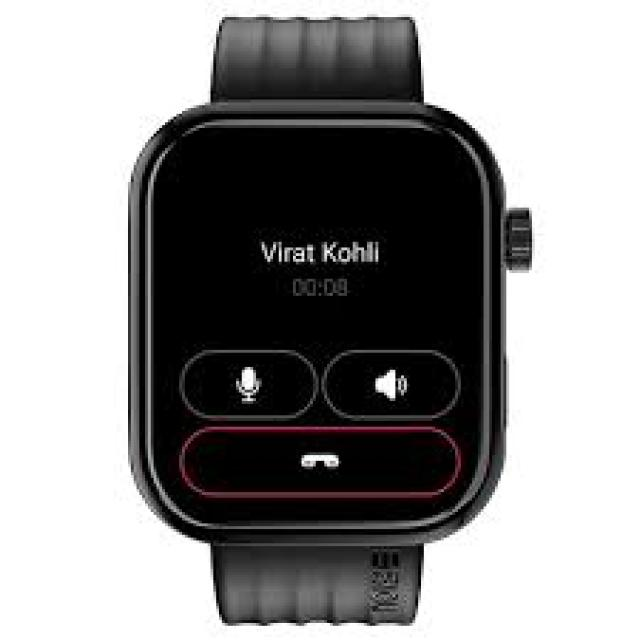objects: (128, 18, 535, 626)
